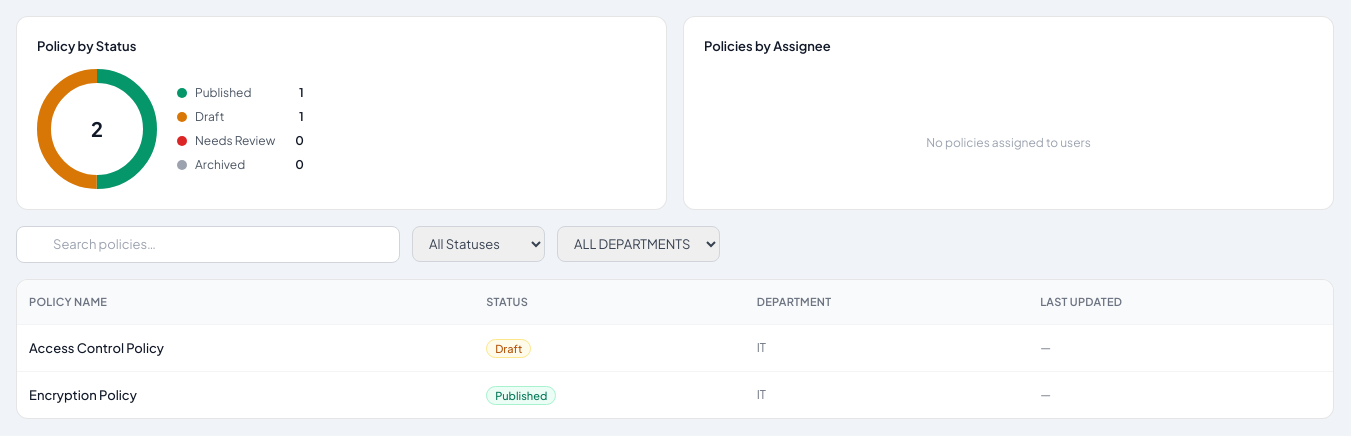
Soc2ProgramPage write actions › filters the policy list by status
Expected: the text "Encryption Policy" is shown, [17,372,474,418]
Select "Draft" in the 1st dropdown showing "All Statuses" at (478, 244), box [412,226,545,262]
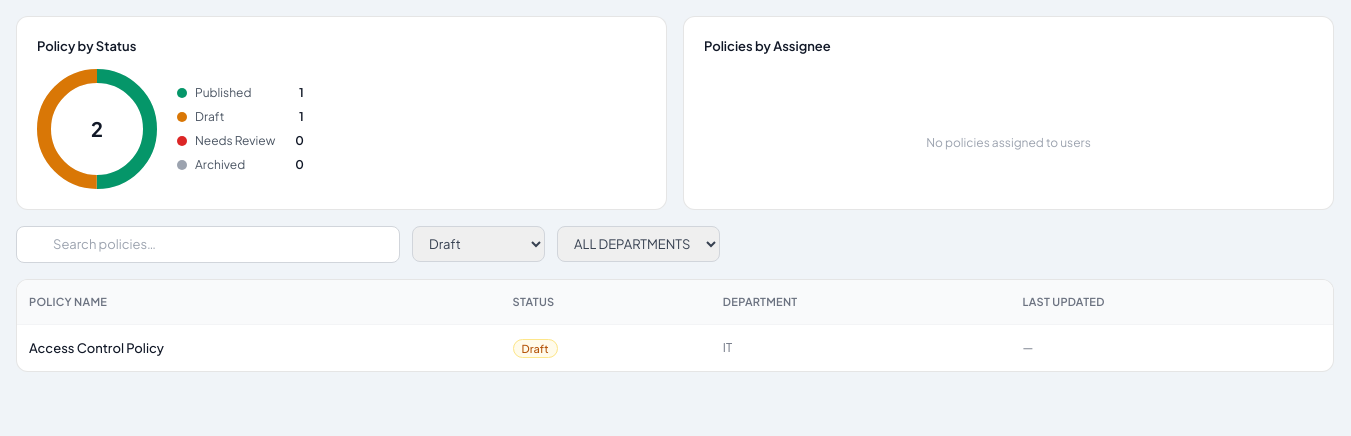
Expected: the text "Access Control Policy" is shown, [17,324,500,371]
Expected: the text "Encryption Policy" is gone
